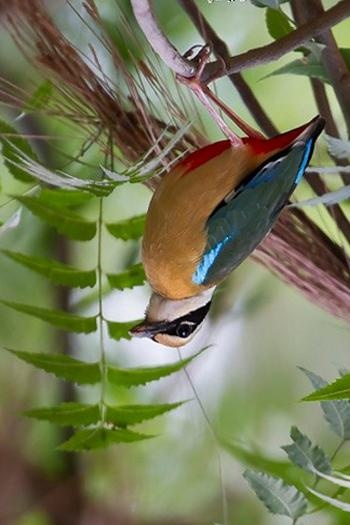pitta: (119, 81, 312, 363)
